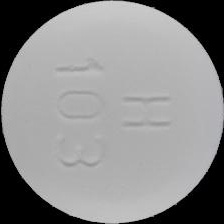50090-0766: (0, 0, 224, 224)
